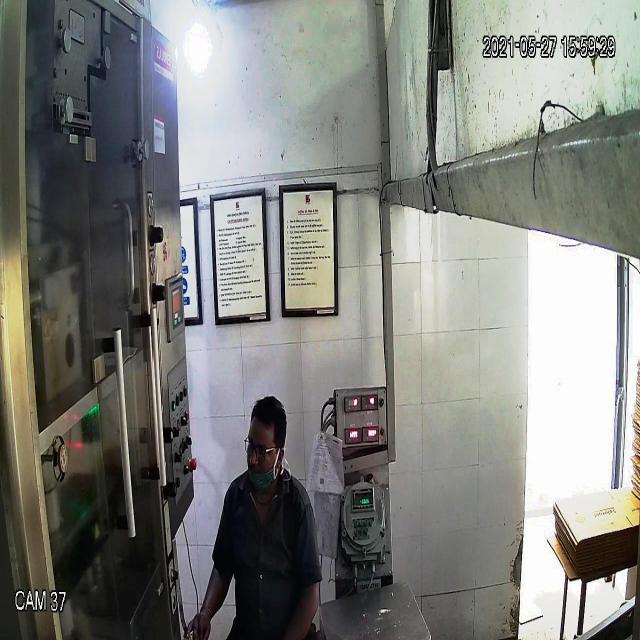glasses: (239, 433, 289, 468)
